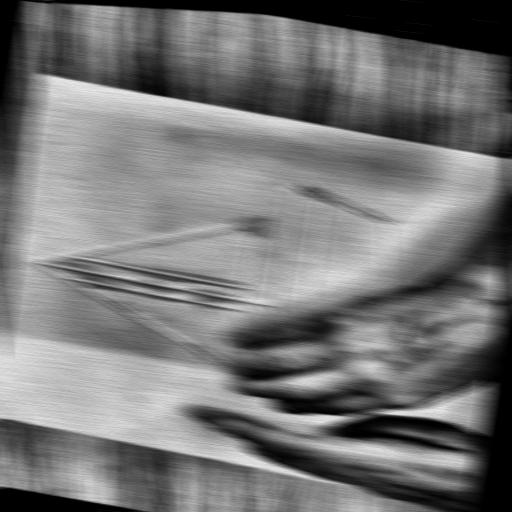boat: (0, 133, 427, 439)
bottom_left: (415, 490, 438, 501)
bottom_right: (499, 152, 511, 163)
top_left: (0, 409, 3, 418)
top_right: (31, 67, 53, 78)
